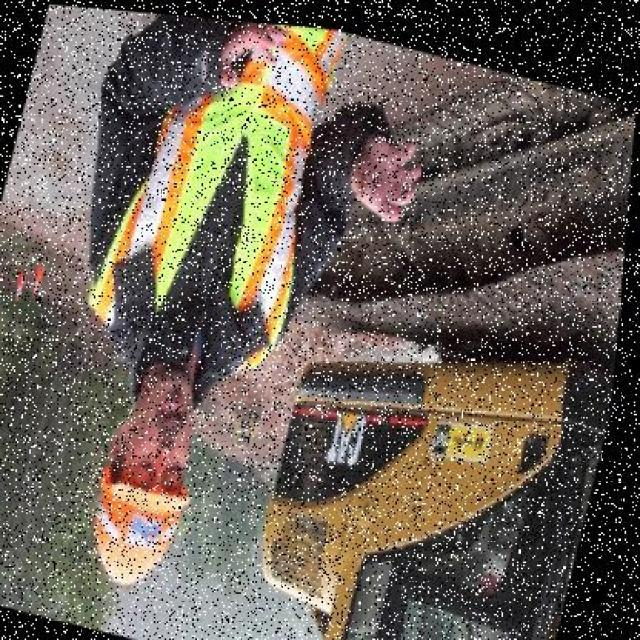helmet: (82, 442, 208, 592)
vest: (79, 8, 354, 382)
